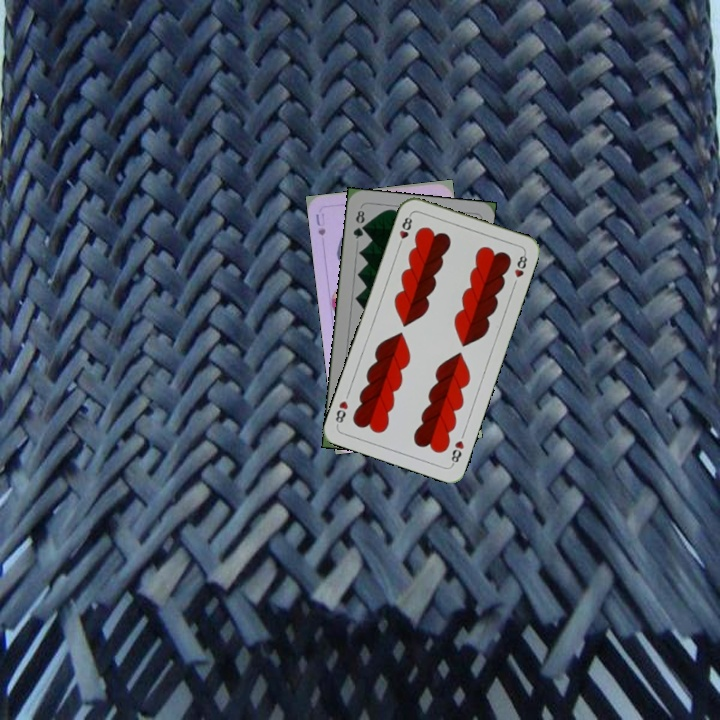G8: (349, 204, 368, 241)
H8: (394, 211, 415, 250), (447, 436, 467, 468)
SU: (312, 210, 328, 238)
